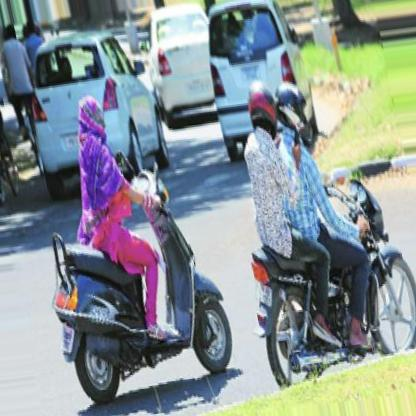with helmet: (275, 82, 311, 143), (248, 82, 279, 142)
